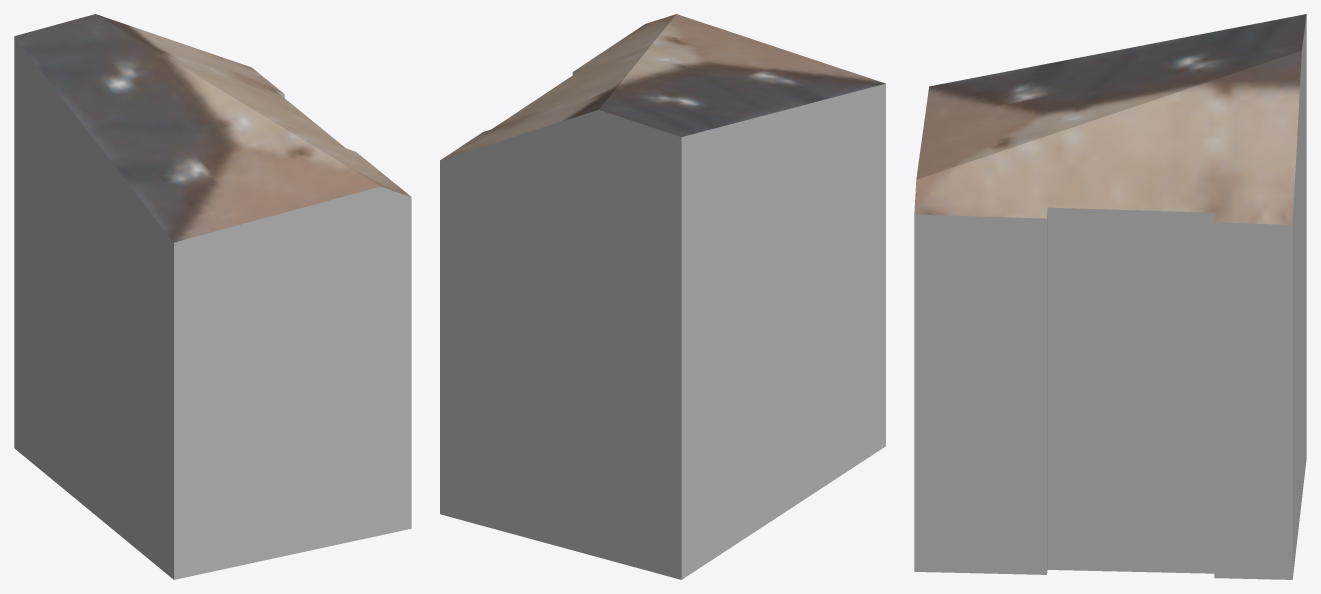
Rendered from DEBW_0010007Tx6A.gltf.
3 views of the same model, side by side, from view 1: azimuth 30°, elevation 25°; view 2: azimuth 150°, elevation 25°; view 3: azimuth 270°, elevation 25° (orthographic). The views are drawn at different scales.
Visible parts, largest first — view 1: Z_UP; view 2: Z_UP; view 3: Z_UP.
Boxes of the visible parts, <box> form: Z_UP: <box>14,14,411,579</box>; Z_UP: <box>440,14,885,579</box>; Z_UP: <box>914,14,1306,579</box>.
Size of the model in its own units: 10.55 by 17.05 by 13.49.
Materials: 2 (1 with a texture image).
